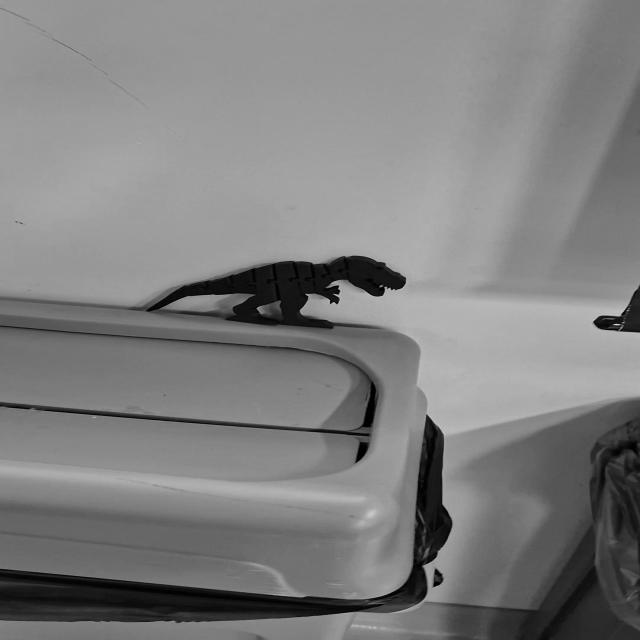dino: (145, 255, 407, 329)
